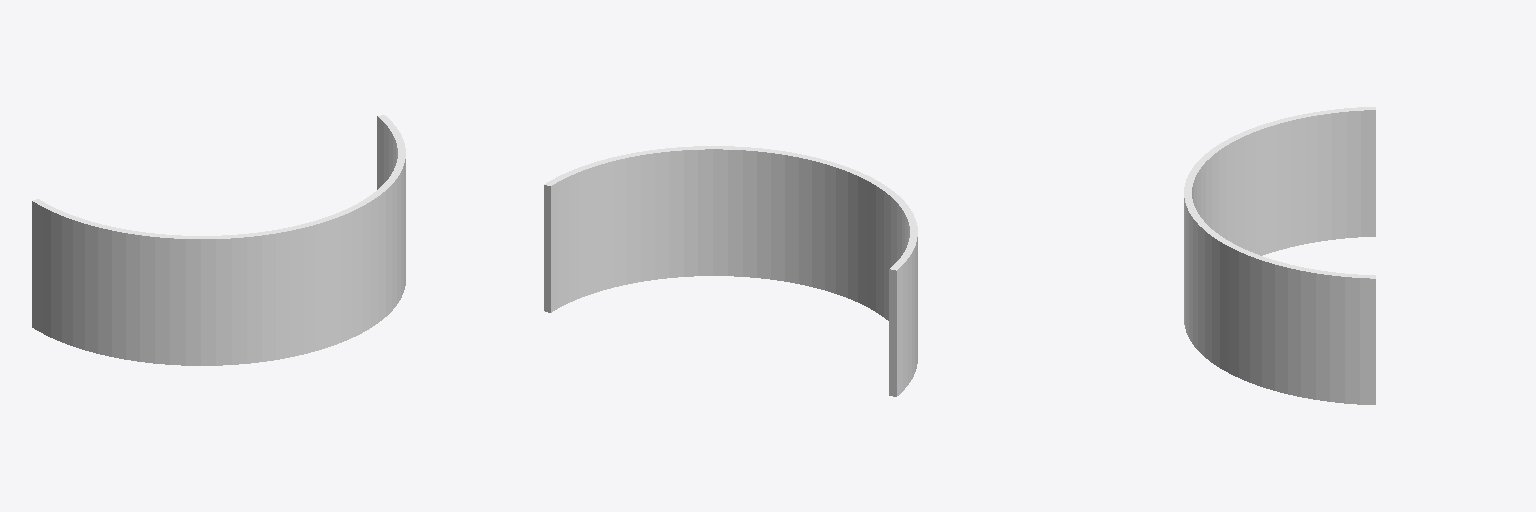
The model's file is wall10Arc.obj.
3 views of the same model, side by side, from view 1: azimuth 30°, elevation 25°; view 2: azimuth 150°, elevation 25°; view 3: azimuth 270°, elevation 25° (orthographic).
Visible parts, largest first — view 1: wall_1_4, wall_1_3, wall_1_5, wall_1_6; view 2: wall_1_3, wall_1_4, wall_1_6, wall_1_5; view 3: wall_1_4, wall_1_3, wall_1_6, wall_1_5.
Boxes of the visible parts, <box> form: wall_1_4: <box>32,159,405,365</box>; wall_1_3: <box>377,116,397,189</box>; wall_1_5: <box>36,116,401,237</box>; wall_1_6: <box>33,115,405,238</box>; wall_1_3: <box>547,149,909,395</box>; wall_1_4: <box>544,185,917,396</box>; wall_1_6: <box>544,146,917,270</box>; wall_1_5: <box>547,148,913,269</box>; wall_1_4: <box>1184,198,1375,404</box>; wall_1_3: <box>1192,110,1375,255</box>; wall_1_6: <box>1184,107,1375,278</box>; wall_1_5: <box>1188,108,1375,276</box>.
Bounding box in the file's own units: 1020 × 350 × 481.